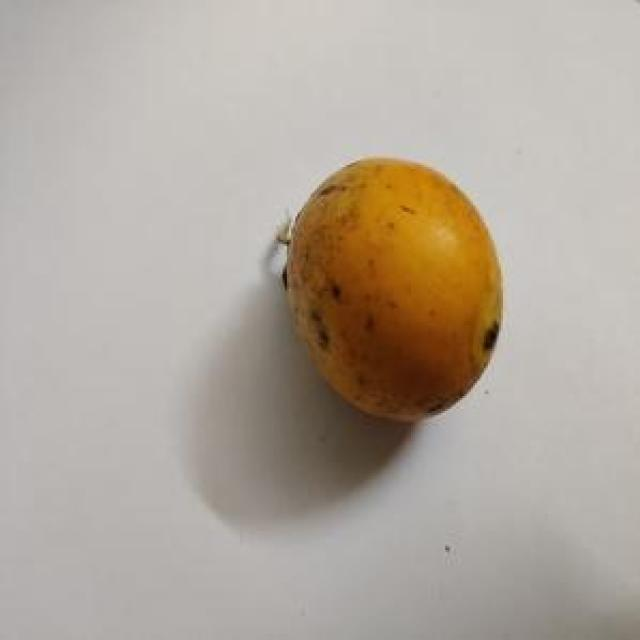good: (283, 158, 505, 426)
